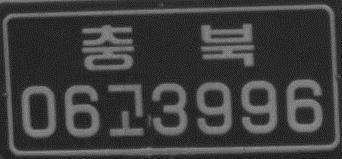0: (19, 82, 57, 140)
3: (151, 81, 190, 138)
6: (284, 77, 324, 136), (62, 82, 101, 140)
9: (239, 78, 279, 135), (195, 79, 234, 136)
고: (105, 81, 146, 140)
충북_D: (79, 19, 257, 74)
